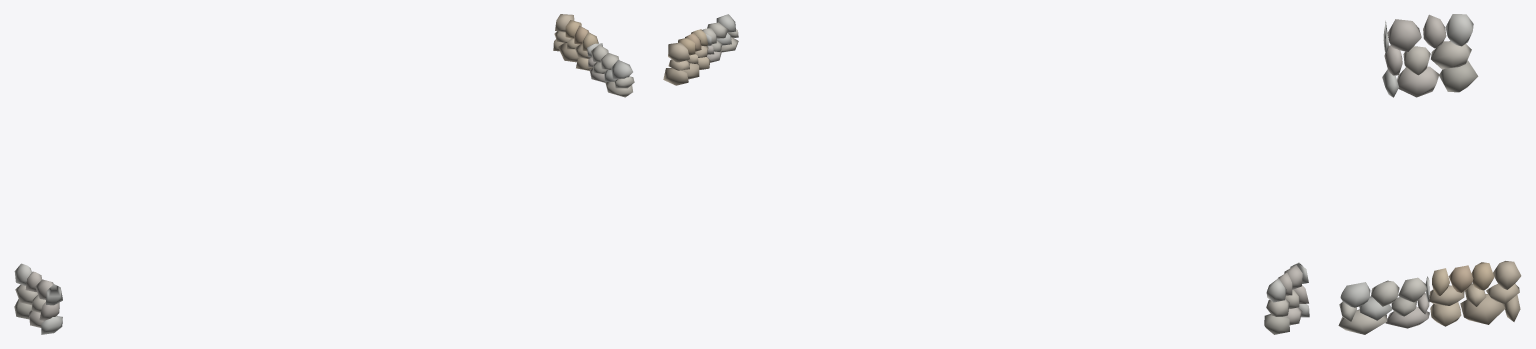
The model's file is farm_-34_-49_near.glb.
3 renders of one model, left to right at view 1: azimuth 30°, elevation 25°; view 2: azimuth 150°, elevation 25°; view 3: azimuth 270°, elevation 25°, orthographic. The views are drawn at different scales.
Visible parts, largest first — view 1: geometry_0; view 2: geometry_0; view 3: geometry_0.
Part boxes in pixels (box(x1,y1,x2,y2)): geometry_0: box(14, 14, 634, 334); geometry_0: box(663, 14, 1309, 334); geometry_0: box(1338, 14, 1521, 334).
Size of the model in its own units: 17.07 by 4.31 by 3.17.
